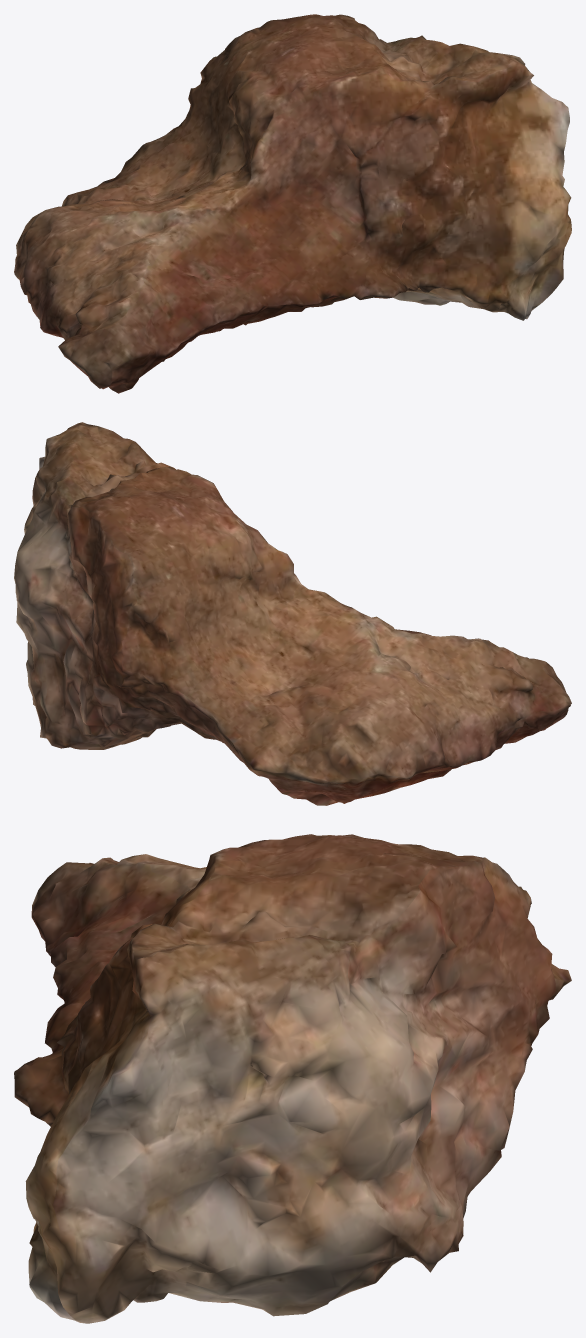
The model's file is stone.glb.
3 views of the same model, one above another, from view 1: azimuth 30°, elevation 25°; view 2: azimuth 150°, elevation 25°; view 3: azimuth 270°, elevation 25° (orthographic). The views are drawn at different scales.
Parts seen in each view (by area): view 1: stone_01; view 2: stone_01; view 3: stone_01.
Boxes of the visible parts, box(x1,y1,x2,y2) form: stone_01: box(14, 14, 571, 393); stone_01: box(14, 422, 571, 805); stone_01: box(14, 834, 571, 1323).
Size of the model in its own units: 0.1469 by 0.0718 by 0.089.
1 material, 1 textured.
